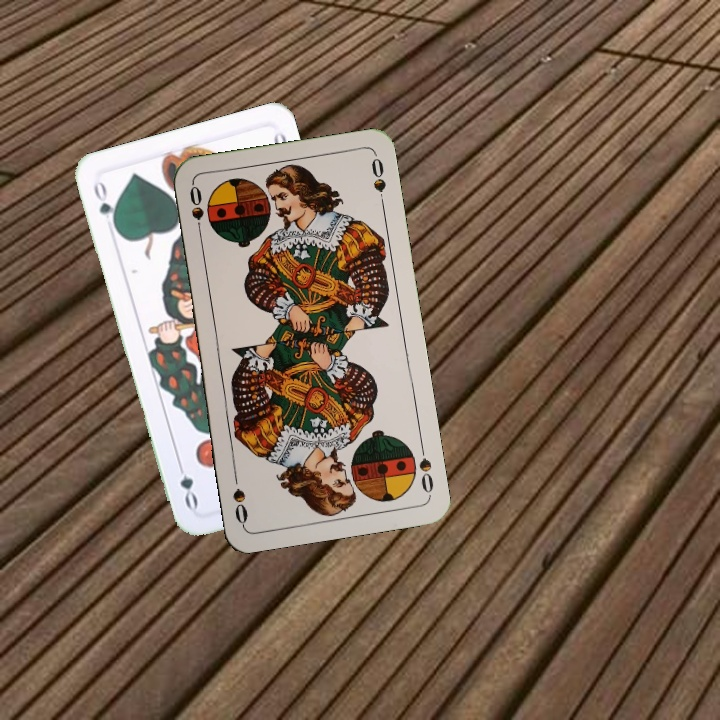GO: (89, 176, 120, 233)
SO: (185, 181, 207, 241), (415, 439, 436, 498)
